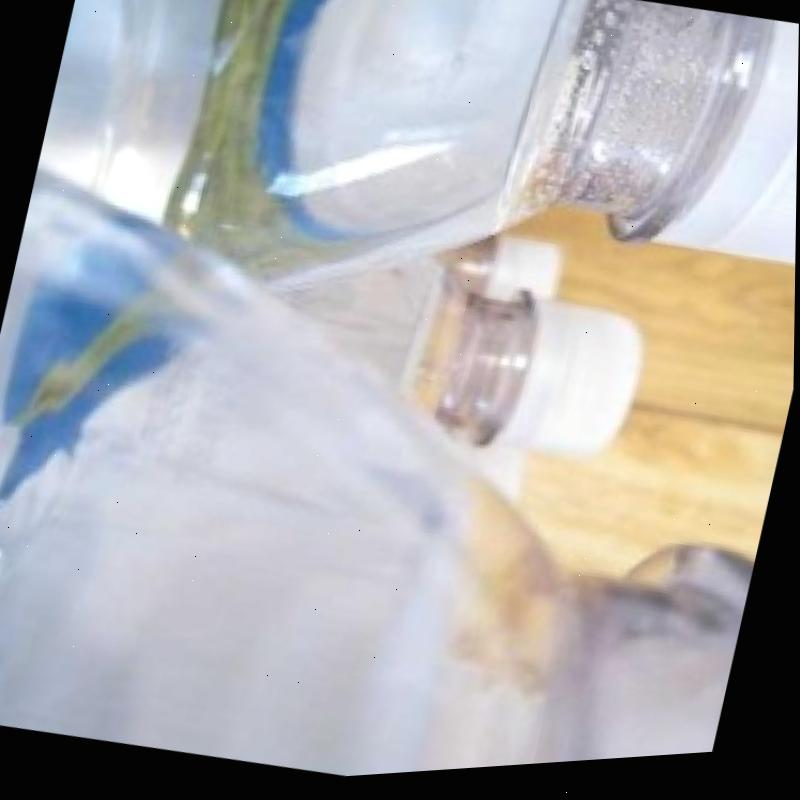botella: (0, 128, 798, 800), (17, 0, 800, 418), (237, 212, 659, 499), (427, 219, 572, 327), (461, 448, 527, 515)
